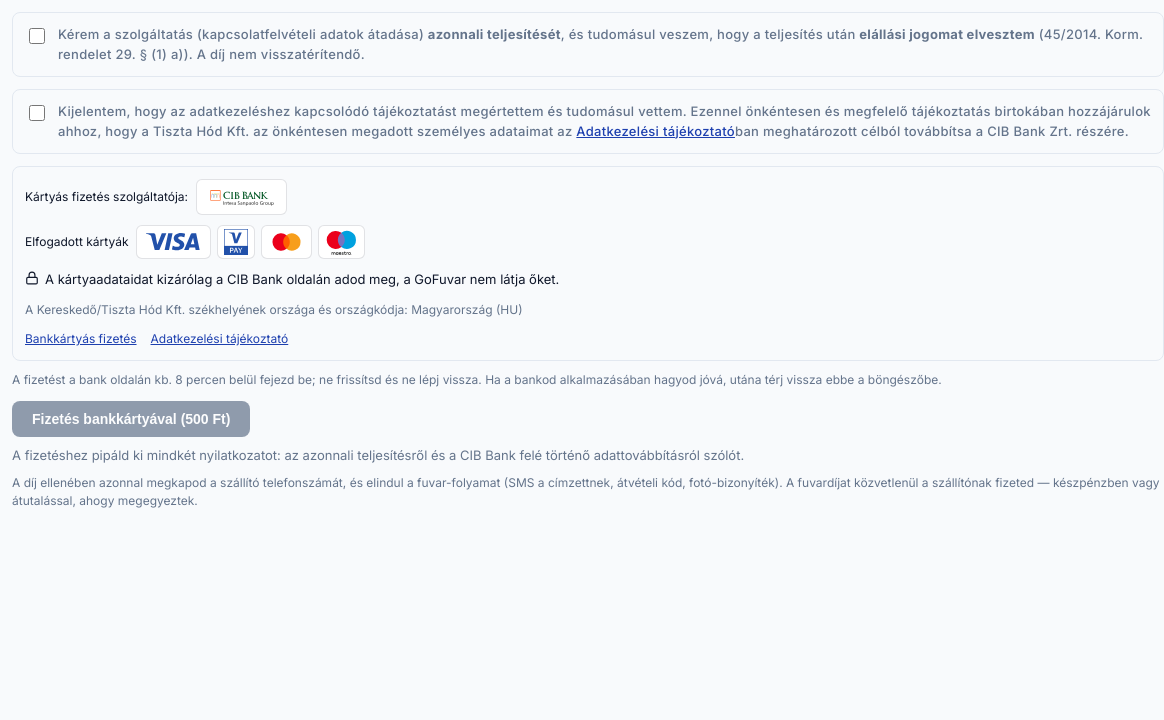
Test: CIB adattovábbítási nyilatkozat (második jelölőnégyzet) › a backend CIB_CONSENT_REQUIRED kódja saját magyar szöveget kap (a szerver üzenete nem jut át)
The width and height of the screenshot is (1164, 720).
Expected: the text "Kártyás fizetés szolgáltatója:" is shown, [25, 187, 188, 207]
Click the 1st checkbox.
click(37, 36)  # box [29, 28, 45, 44]
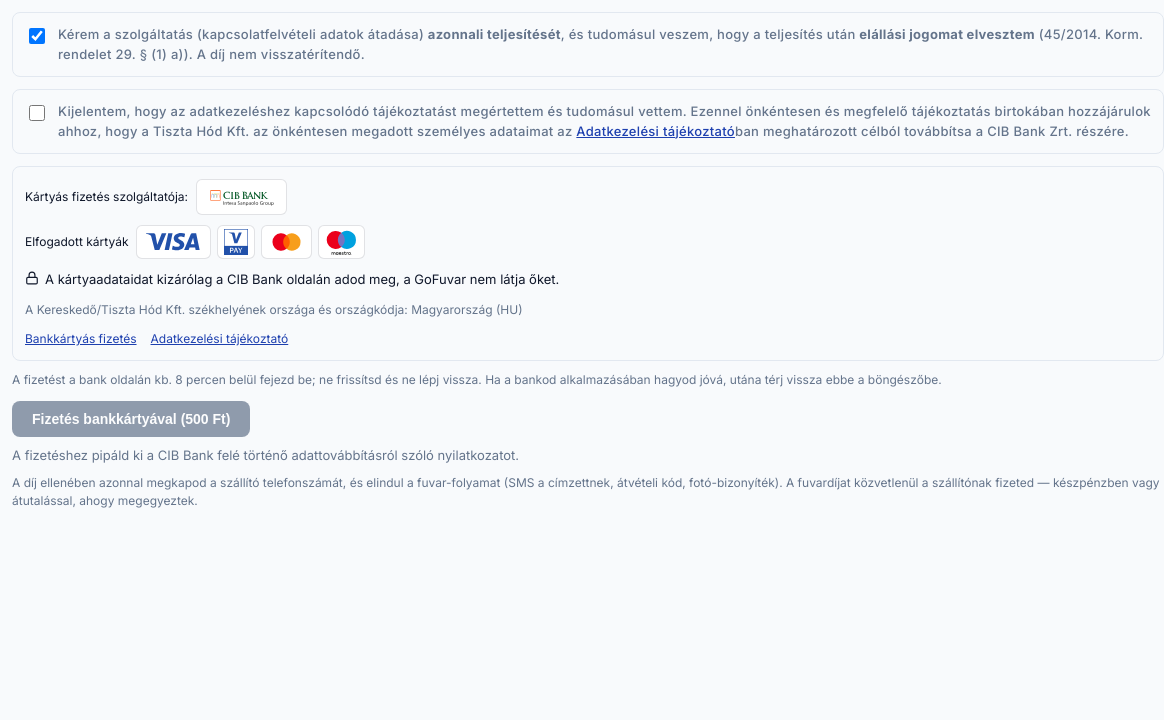
Click the 2nd checkbox.
click(37, 113)  # box [29, 105, 45, 121]
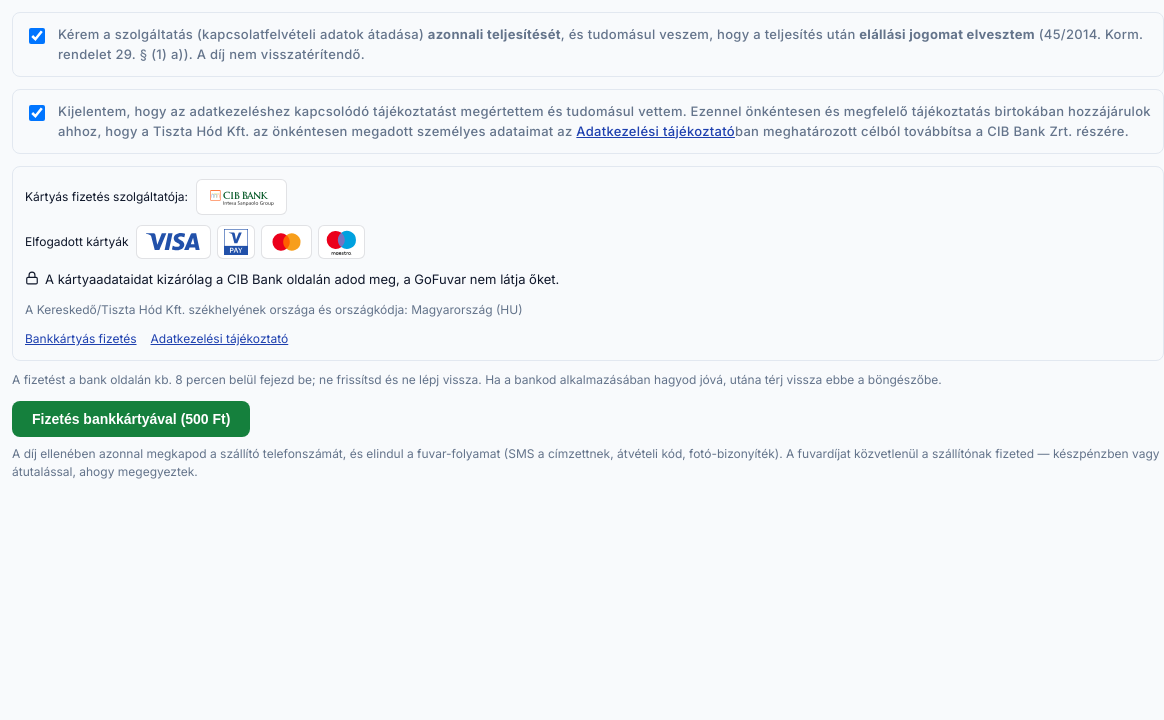
Click the button "Fizetés bankkártyával (500 Ft)".
click(131, 419)  # box [12, 401, 250, 437]
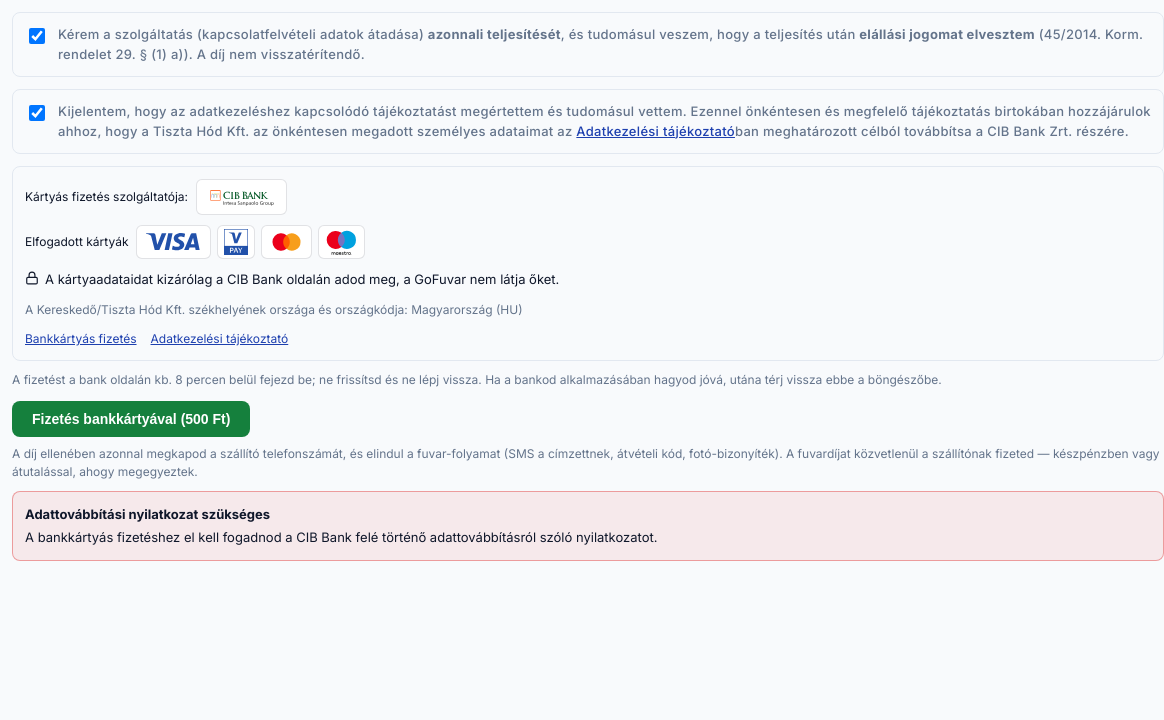
Now the message shows "CIB Bank felé történő adattovábbításról", box [25, 529, 658, 545]
